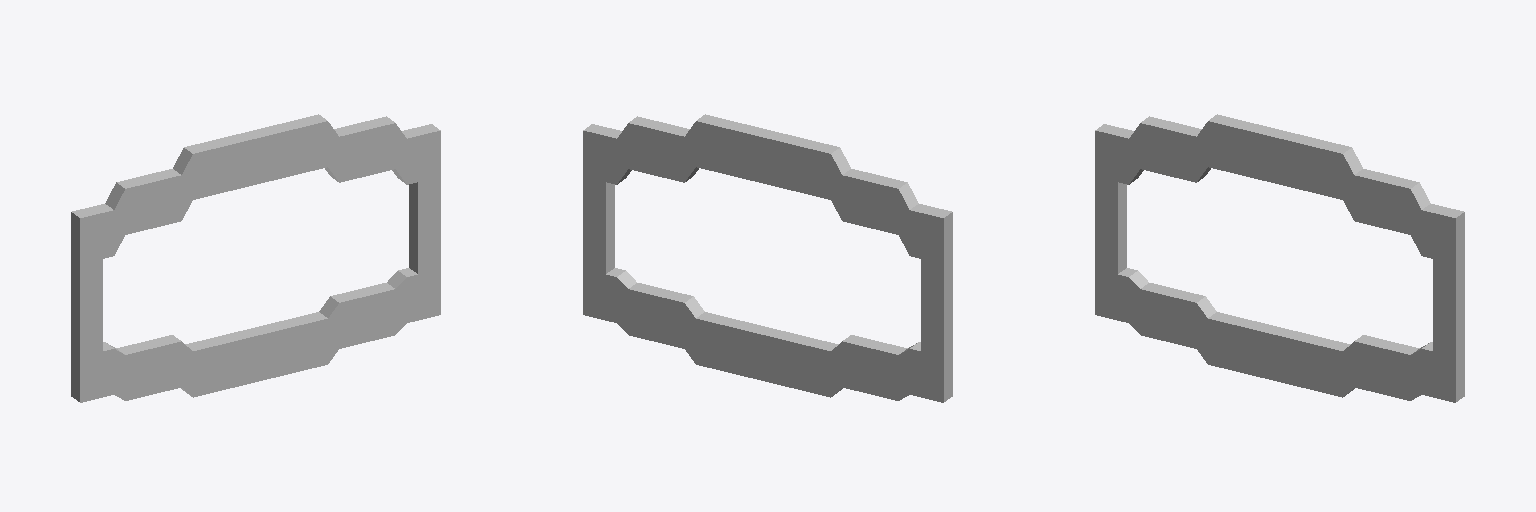
The model's file is ring.obj.
3 renders of one model, left to right at view 1: azimuth 30°, elevation 25°; view 2: azimuth 150°, elevation 25°; view 3: azimuth 330°, elevation 25°, orthographic.
Visible parts, largest first — view 1: Cube.001; view 2: Cube.001; view 3: Cube.001.
Part boxes in pixels (x1,y1,x2,y2): Cube.001: (71,114,440,402); Cube.001: (583,114,952,402); Cube.001: (1095,114,1464,402).
Bounding box in the file's own units: 6.85 × 4.42 × 0.3.